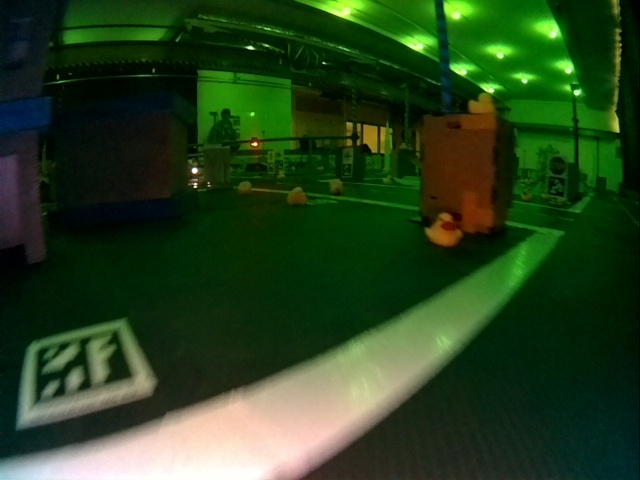Duckie: (427, 213, 459, 244), (468, 92, 494, 114), (287, 187, 305, 205), (328, 178, 343, 194), (238, 184, 251, 193), (520, 190, 529, 200)
QR code: (17, 317, 150, 425), (548, 177, 564, 194), (343, 163, 353, 173)
Stop sign: (550, 157, 566, 176)
